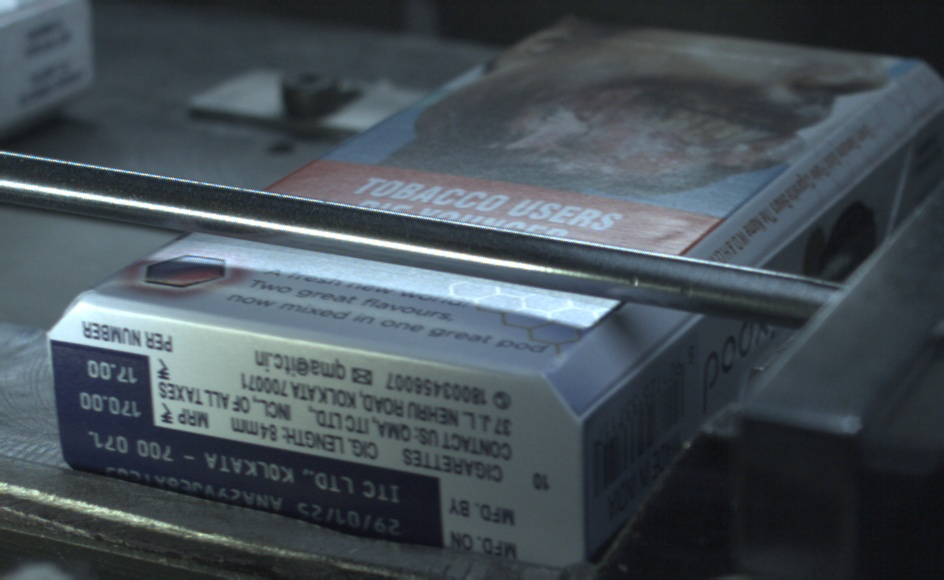g_bottom: (55, 299, 568, 580)
g_label: (77, 360, 405, 542)
g_lmiter: (817, 156, 894, 224), (763, 193, 840, 261), (628, 322, 696, 380), (588, 359, 656, 417)
g_miter: (896, 93, 944, 170)
